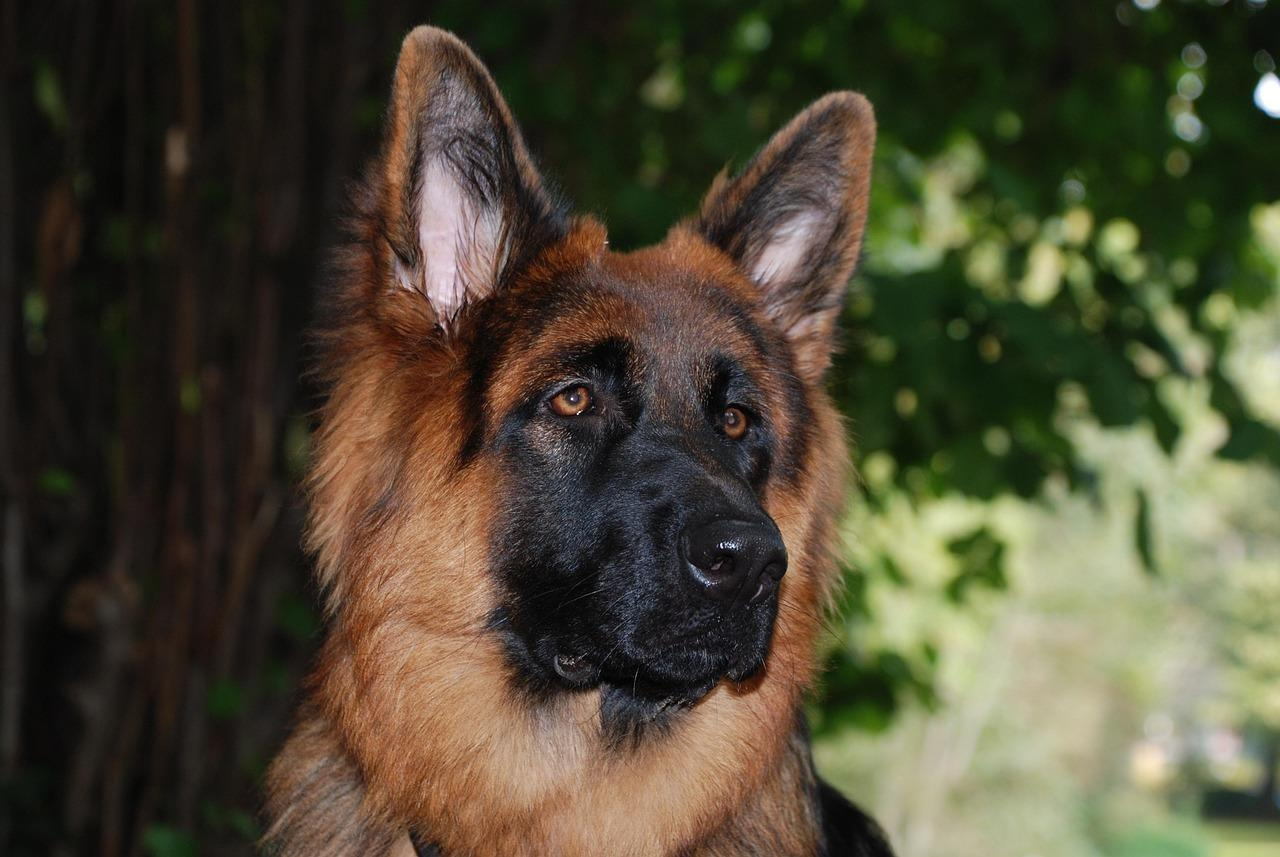german_shepherd: (401, 42, 887, 776)
